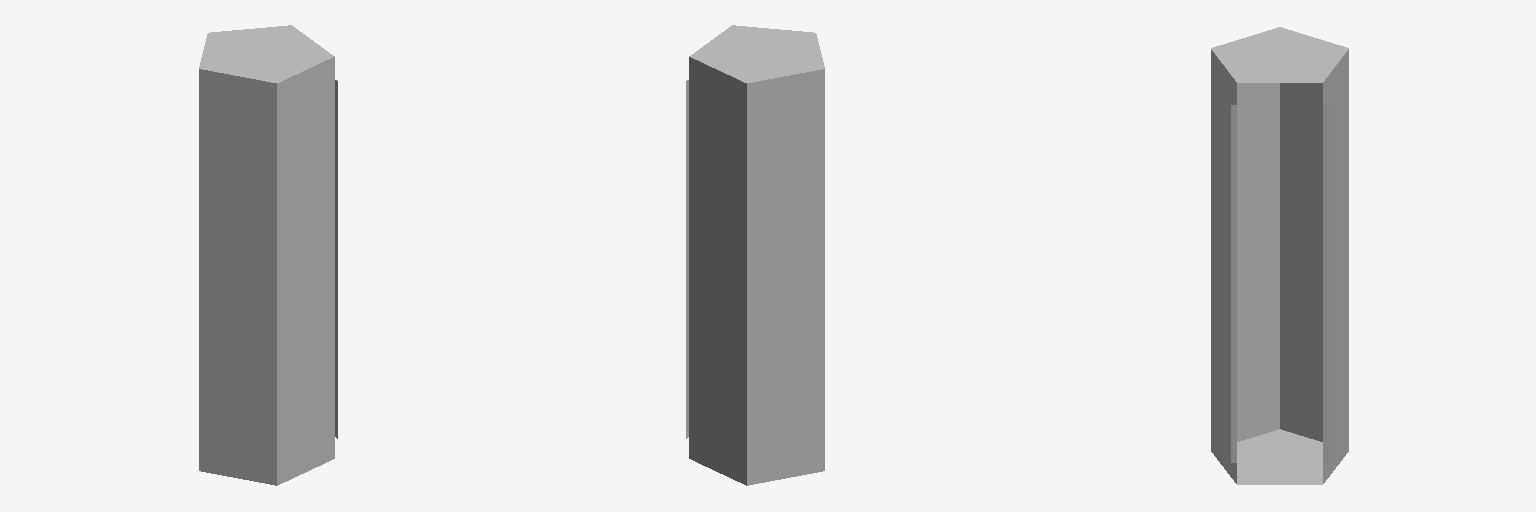
Rendered from elevator_shaft-01-shaft.obj.
3 renders of one model, left to right at view 1: azimuth 30°, elevation 25°; view 2: azimuth 150°, elevation 25°; view 3: azimuth 270°, elevation 25°, orthographic.
Visible parts, largest first — view 1: Circle.005_Circle.003, Circle.004_Circle.003, Circle.003, Circle.006_Circle.003, Circle.002, Circle.009_Circle.005, Circle.008_Circle.005; view 2: Circle.005_Circle.003, Circle.004_Circle.003, Circle.003, Circle.006_Circle.003, Circle.002, Circle.009_Circle.005, Circle.008_Circle.005; view 3: Circle.003, Circle.005_Circle.003, Circle.004_Circle.003, Circle.006_Circle.003, Circle.002, Circle.007_Circle.004, Circle.009_Circle.005, Circle.008_Circle.005.
Part boxes in pixels (bbox=[...]): Circle.005_Circle.003: bbox=[199, 168, 337, 284]; Circle.004_Circle.003: bbox=[199, 258, 337, 373]; Circle.003: bbox=[199, 347, 337, 462]; Circle.006_Circle.003: bbox=[199, 79, 337, 194]; Circle.002: bbox=[199, 25, 334, 82]; Circle.009_Circle.005: bbox=[199, 437, 334, 485]; Circle.008_Circle.005: bbox=[199, 57, 334, 105]; Circle.005_Circle.003: bbox=[686, 168, 824, 284]; Circle.004_Circle.003: bbox=[686, 258, 824, 373]; Circle.003: bbox=[686, 347, 824, 462]; Circle.006_Circle.003: bbox=[686, 79, 824, 194]; Circle.002: bbox=[689, 25, 824, 82]; Circle.009_Circle.005: bbox=[689, 437, 824, 485]; Circle.008_Circle.005: bbox=[689, 57, 824, 105]; Circle.003: bbox=[1211, 318, 1348, 462]; Circle.005_Circle.003: bbox=[1211, 139, 1348, 283]; Circle.004_Circle.003: bbox=[1211, 228, 1348, 372]; Circle.006_Circle.003: bbox=[1211, 72, 1348, 194]; Circle.002: bbox=[1211, 27, 1348, 82]; Circle.007_Circle.004: bbox=[1237, 429, 1322, 484]; Circle.009_Circle.005: bbox=[1211, 407, 1348, 483]; Circle.008_Circle.005: bbox=[1211, 50, 1348, 103].
Bounding box in the file's own units: 5.36 × 18 × 5.64.